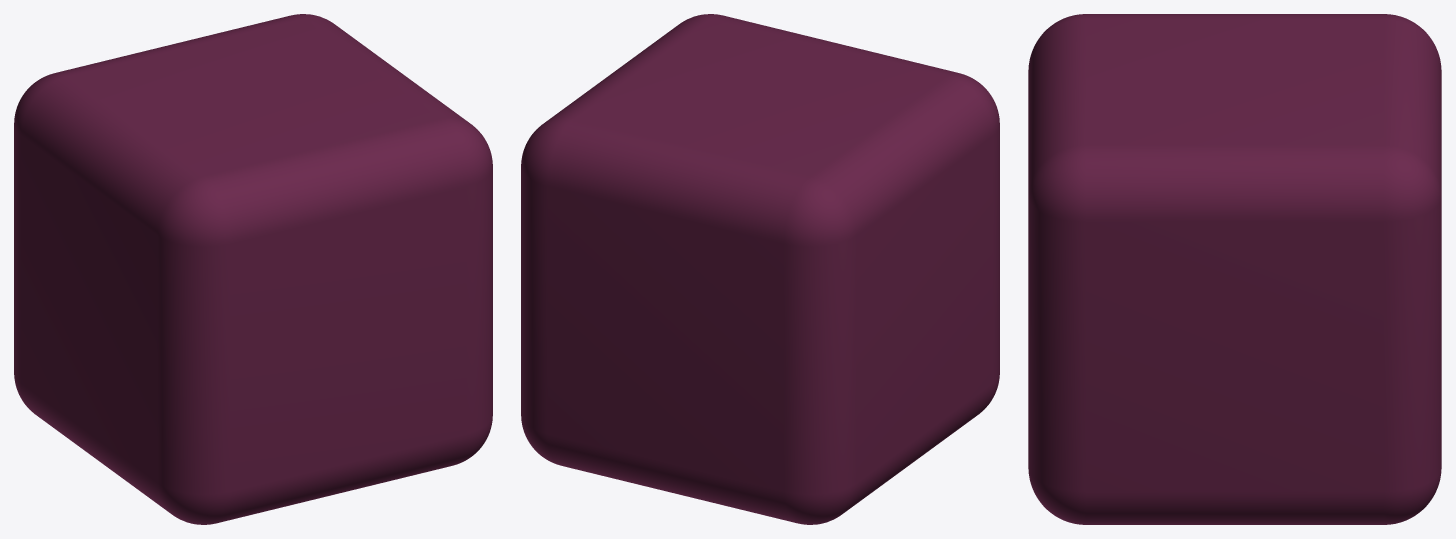
3 views of the same model, side by side, from view 1: azimuth 30°, elevation 25°; view 2: azimuth 150°, elevation 25°; view 3: azimuth 270°, elevation 25° (orthographic). The views are drawn at different scales.
Parts seen in each view (by area): view 1: Cube; view 2: Cube; view 3: Cube.
Part boxes in pixels (x1=…): Cube: x1=14, y1=14, x2=492, y2=524; Cube: x1=521, y1=14, x2=999, y2=524; Cube: x1=1028, y1=14, x2=1441, y2=524.
Bounding box in the file's own units: 2 × 2 × 2.
